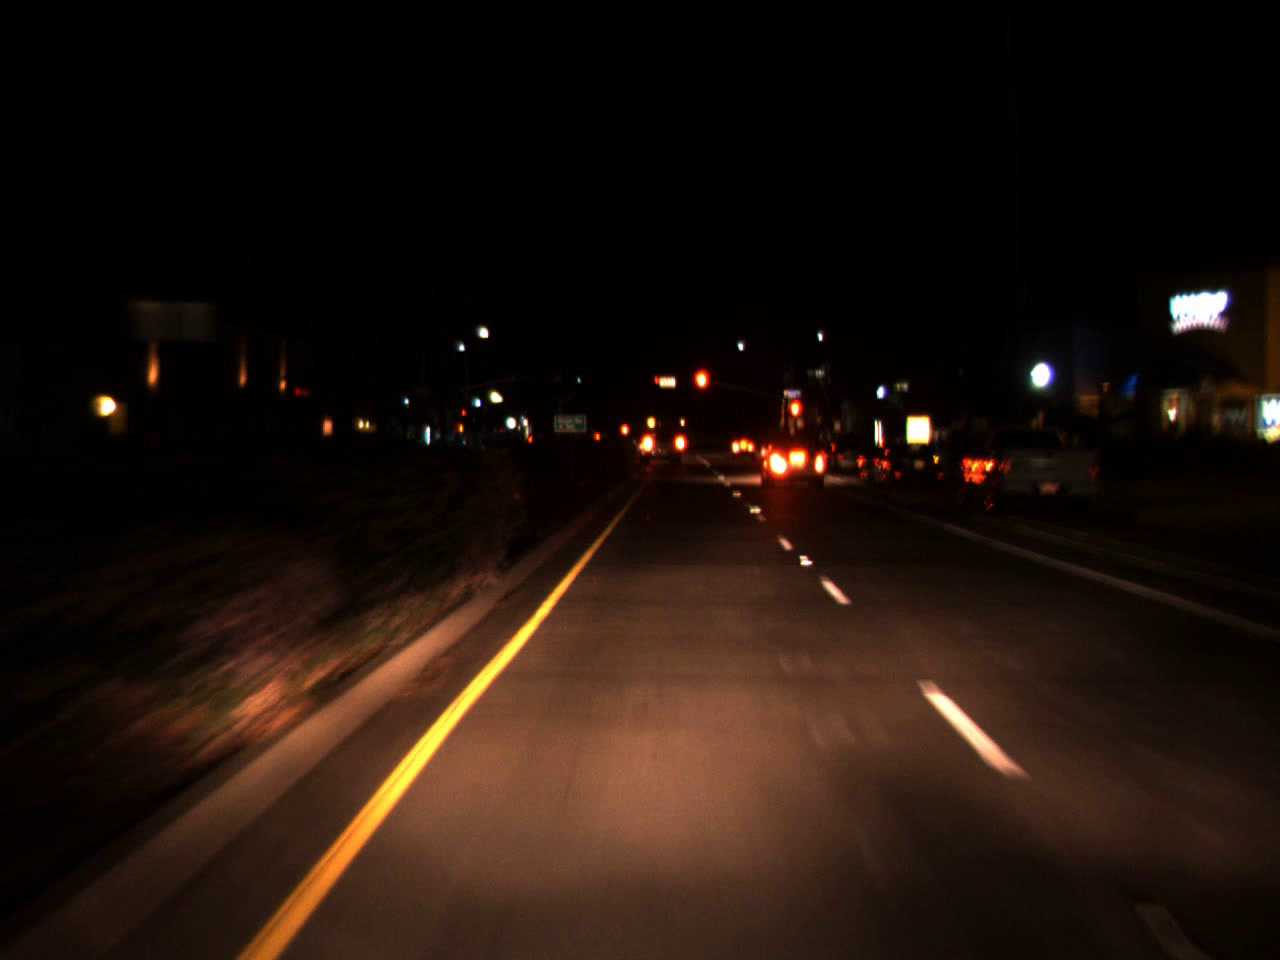stop: (691, 366, 710, 411), (787, 396, 802, 439), (653, 376, 660, 392), (460, 409, 466, 419)
